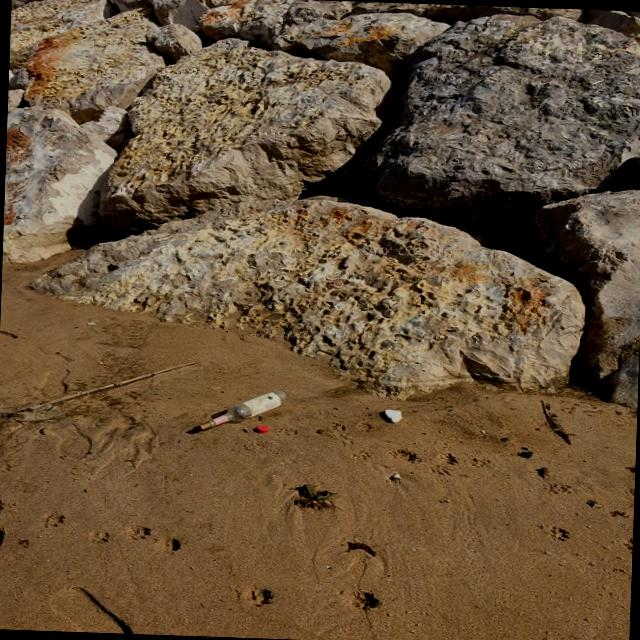Recycle: (185, 385, 292, 439)
Trash: (378, 404, 409, 426), (250, 422, 273, 435)
